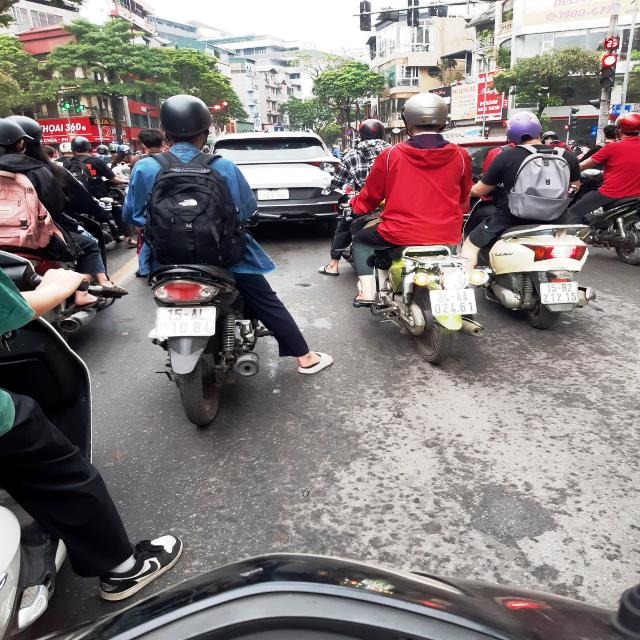license_plate: (429, 289, 479, 317), (540, 283, 580, 305)
